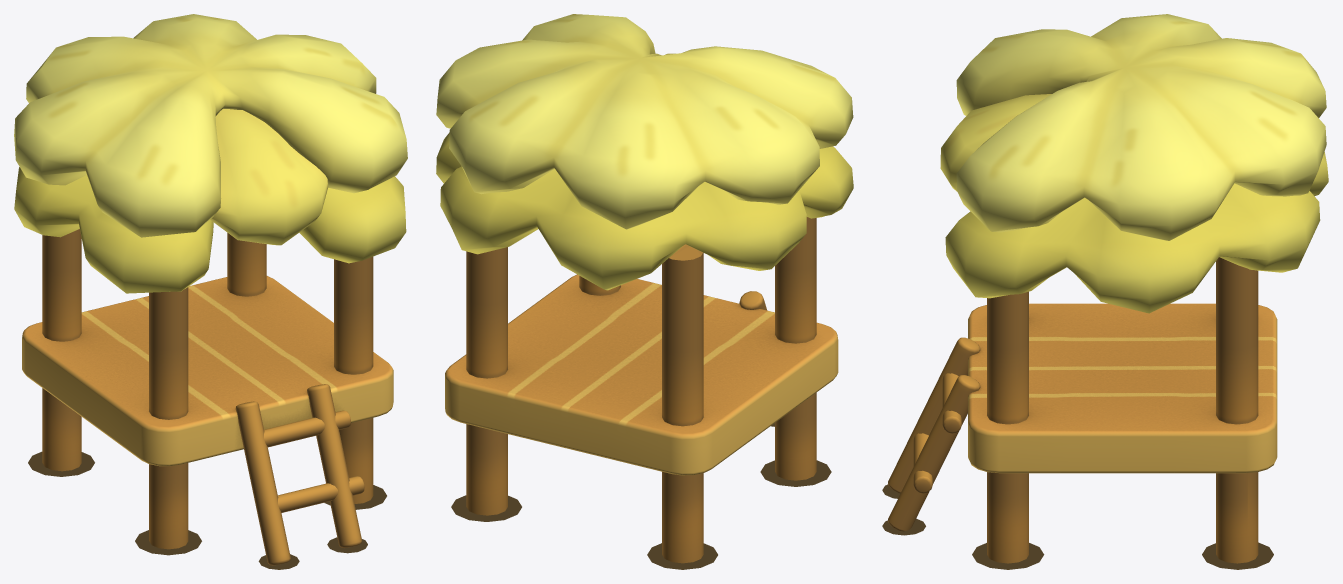
Rendered from Gazebo.fbx.
The picture shows the model from 3 angles, left to right: view 1: azimuth 30°, elevation 25°; view 2: azimuth 150°, elevation 25°; view 3: azimuth 270°, elevation 25°; orthographic projection. The views are drawn at different scales.
Visible parts, largest first — view 1: gazebo_group46_pCylinder62, gazebo_pCylinder67, gazebo_pCylinder72, pCylinder87; view 2: gazebo_group46_pCylinder62, gazebo_pCylinder67, pCylinder87; view 3: gazebo_group46_pCylinder62, gazebo_pCylinder67, gazebo_pCylinder72, pCylinder87.
Part boxes in pixels (left/top/right/bottom): gazebo_group46_pCylinder62: left=14, top=14, right=407, bottom=293; gazebo_pCylinder67: left=22, top=229, right=393, bottom=549; gazebo_pCylinder72: left=235, top=384, right=364, bottom=565; pCylinder87: left=28, top=451, right=386, bottom=569; gazebo_group46_pCylinder62: left=436, top=14, right=853, bottom=290; gazebo_pCylinder67: left=445, top=217, right=838, bottom=563; pCylinder87: left=451, top=423, right=831, bottom=569; gazebo_group46_pCylinder62: left=940, top=14, right=1328, bottom=313; gazebo_pCylinder67: left=968, top=257, right=1277, bottom=563; gazebo_pCylinder72: left=888, top=337, right=980, bottom=531; pCylinder87: left=882, top=484, right=1273, bottom=569.
Bounding box in the file's own units: 279 × 323 × 292.
